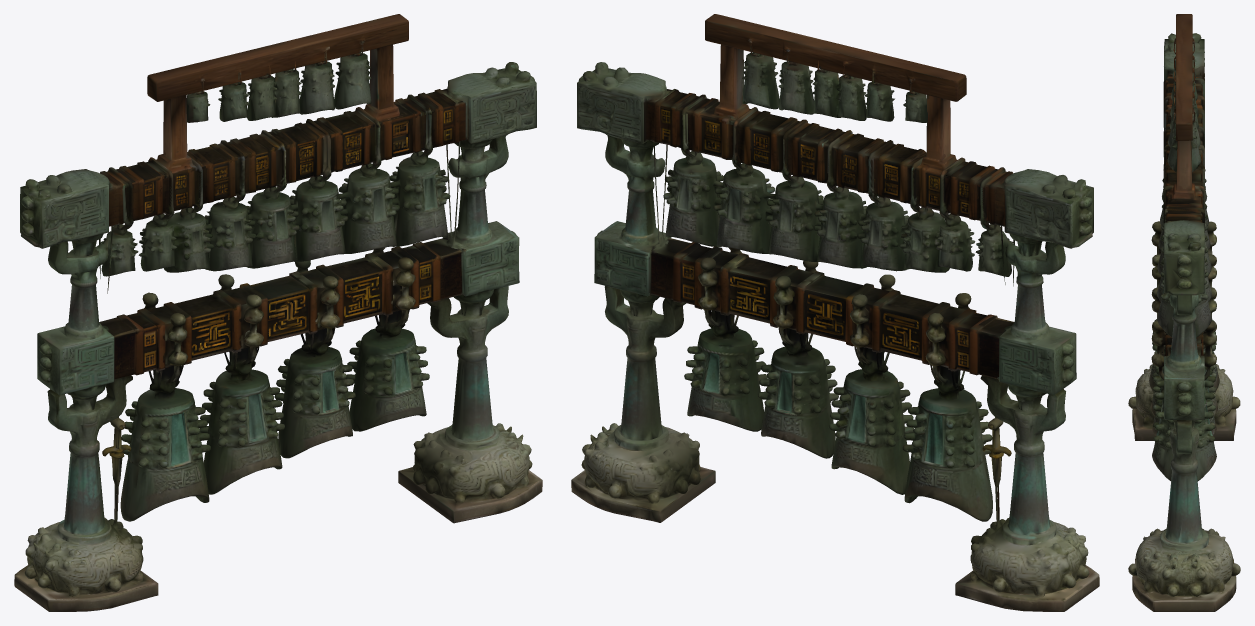
The model's file is zeng-hou-yi-bian-zhong.glb.
3 views of the same model, side by side, from view 1: azimuth 30°, elevation 25°; view 2: azimuth 150°, elevation 25°; view 3: azimuth 270°, elevation 25° (orthographic). The views are drawn at different scales.
Parts seen in each view (by area): view 1: convert; view 2: convert; view 3: convert.
Part boxes in pixels (left/top/right/bottom): convert: left=14, top=14, right=542, bottom=611; convert: left=571, top=14, right=1099, bottom=611; convert: left=1128, top=14, right=1240, bottom=611.
Size of the model in its own units: 0.8947 by 0.8248 by 0.1921.
1 material, 1 textured.
